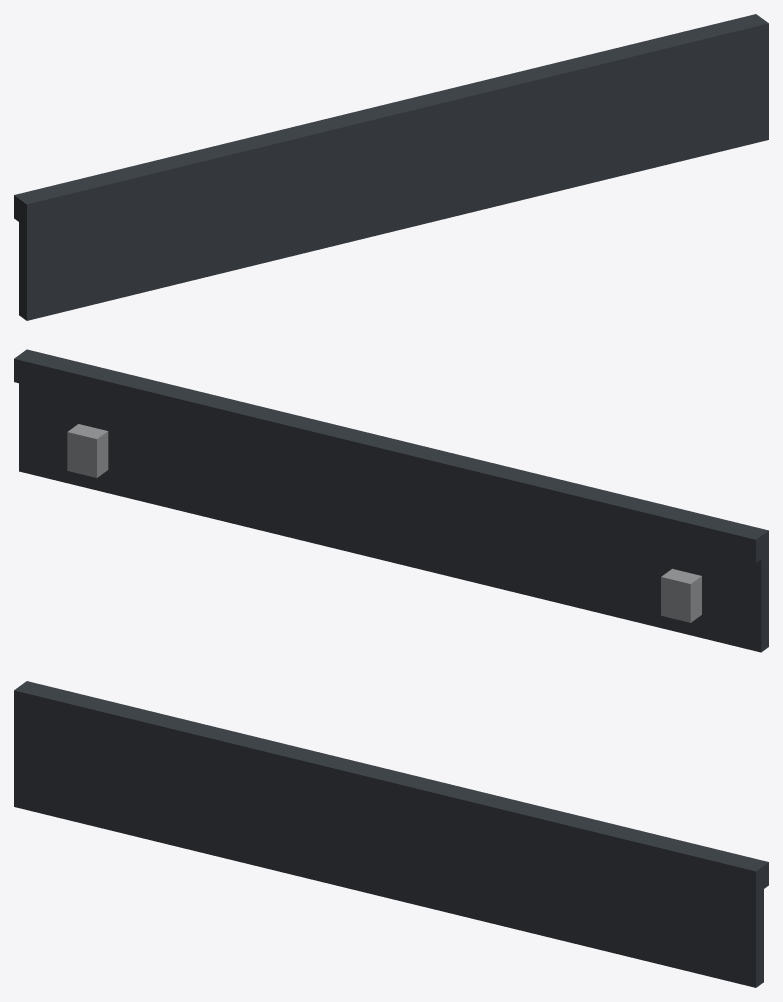
The model's file is SM_LPI_Kitchen_Plinth_01.fbx.
The picture shows the model from 3 angles, top to bottom: view 1: azimuth 30°, elevation 25°; view 2: azimuth 150°, elevation 25°; view 3: azimuth 330°, elevation 25°; orthographic projection.
Visible parts, largest first — view 1: SM_LPI_Kitchen_Plinth_01; view 2: SM_LPI_Kitchen_Plinth_01; view 3: SM_LPI_Kitchen_Plinth_01.
Part boxes in pixels (left/top/right/bottom): SM_LPI_Kitchen_Plinth_01: left=14, top=14, right=768, bottom=320; SM_LPI_Kitchen_Plinth_01: left=14, top=349, right=768, bottom=652; SM_LPI_Kitchen_Plinth_01: left=14, top=681, right=768, bottom=987.
Bounding box in the file's own units: 1 × 0.15 × 0.044.
